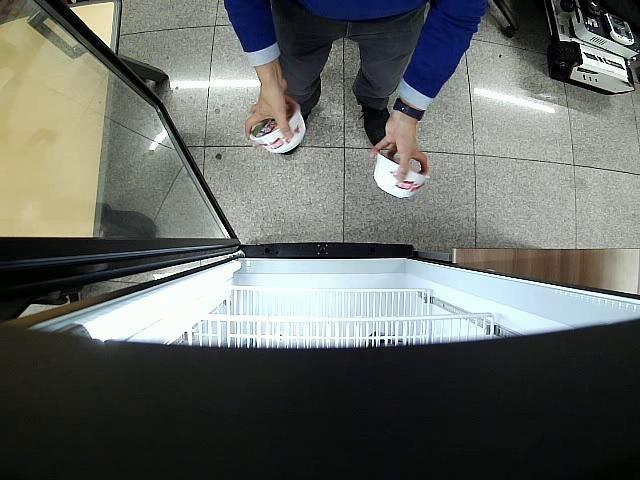09_yukGaeJang: (250, 95, 306, 154), (373, 151, 431, 198)
